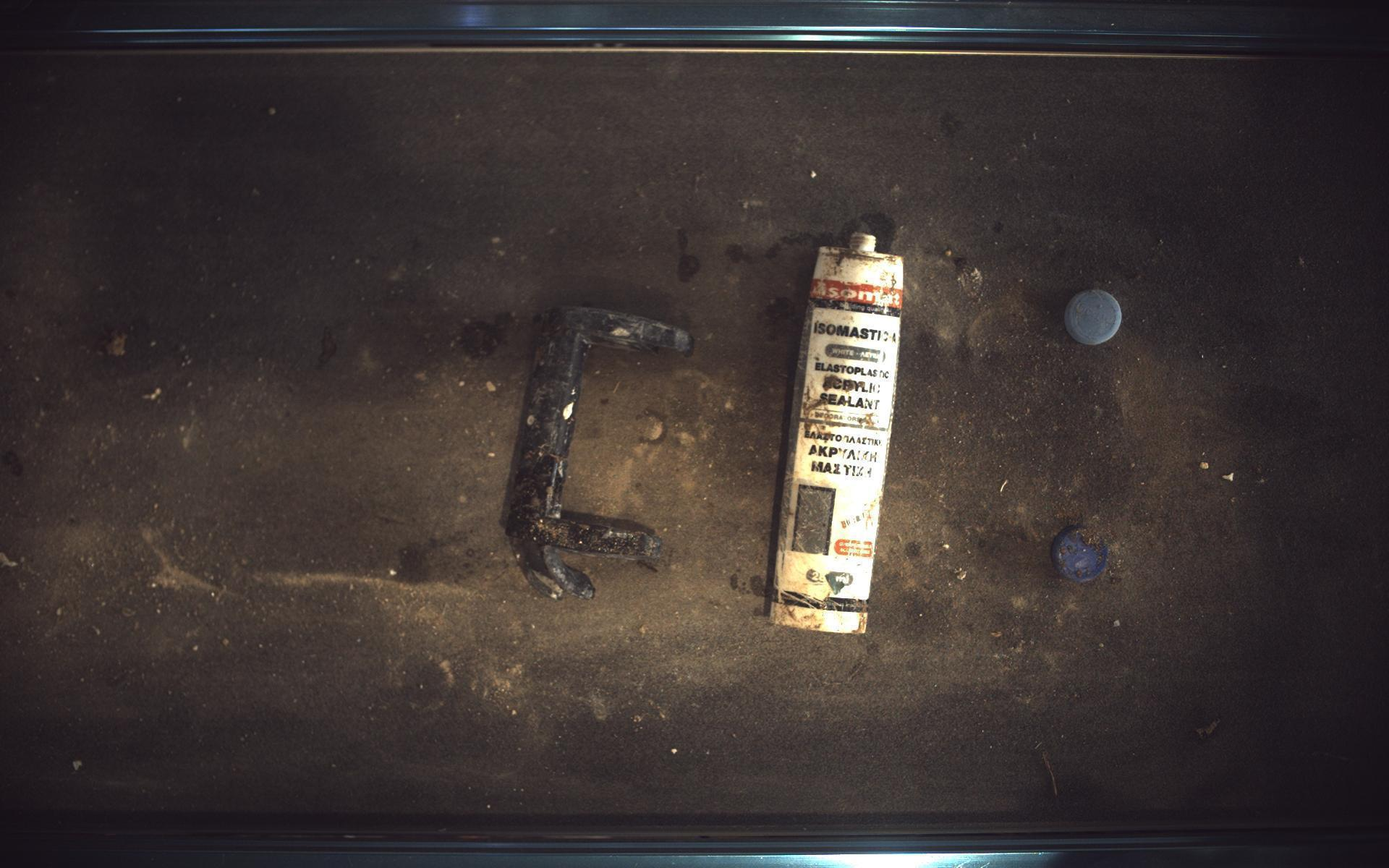general_w: (503, 307, 694, 600), (1053, 524, 1112, 584), (1067, 289, 1124, 345)
plastic: (770, 231, 906, 634)
